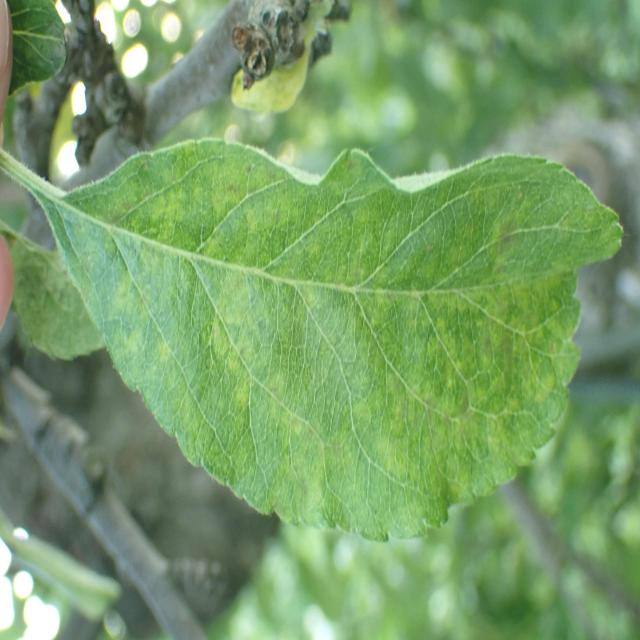scab: (111, 162, 568, 463)
